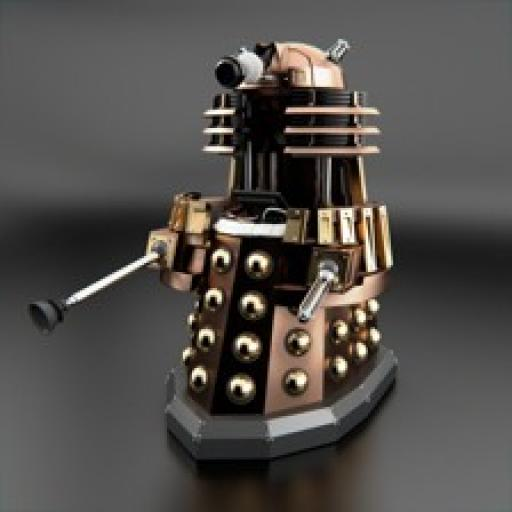dalek: (16, 32, 406, 466)
